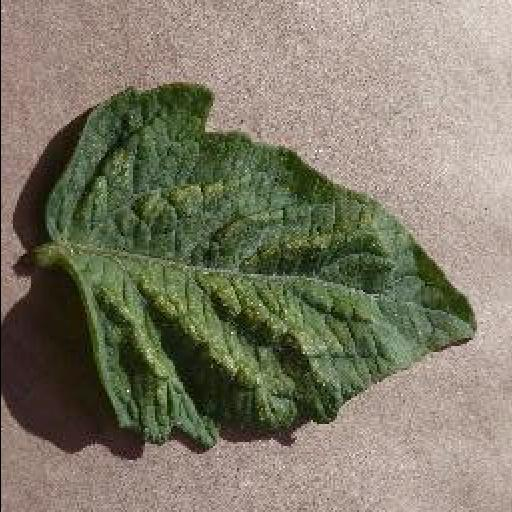disease_tomato: (46, 84, 476, 448)
